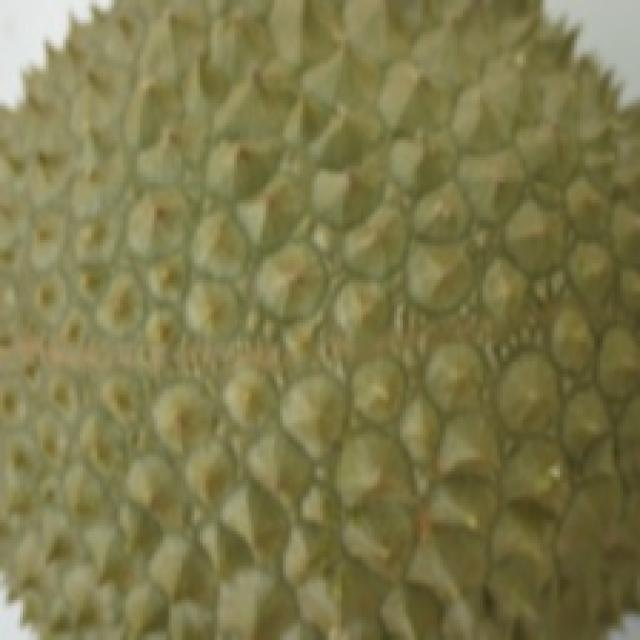d2: (27, 34, 616, 640)
